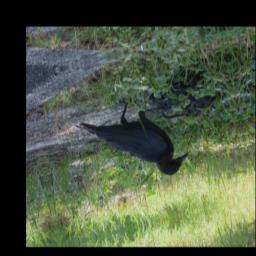Crow: (71, 85, 192, 198)
